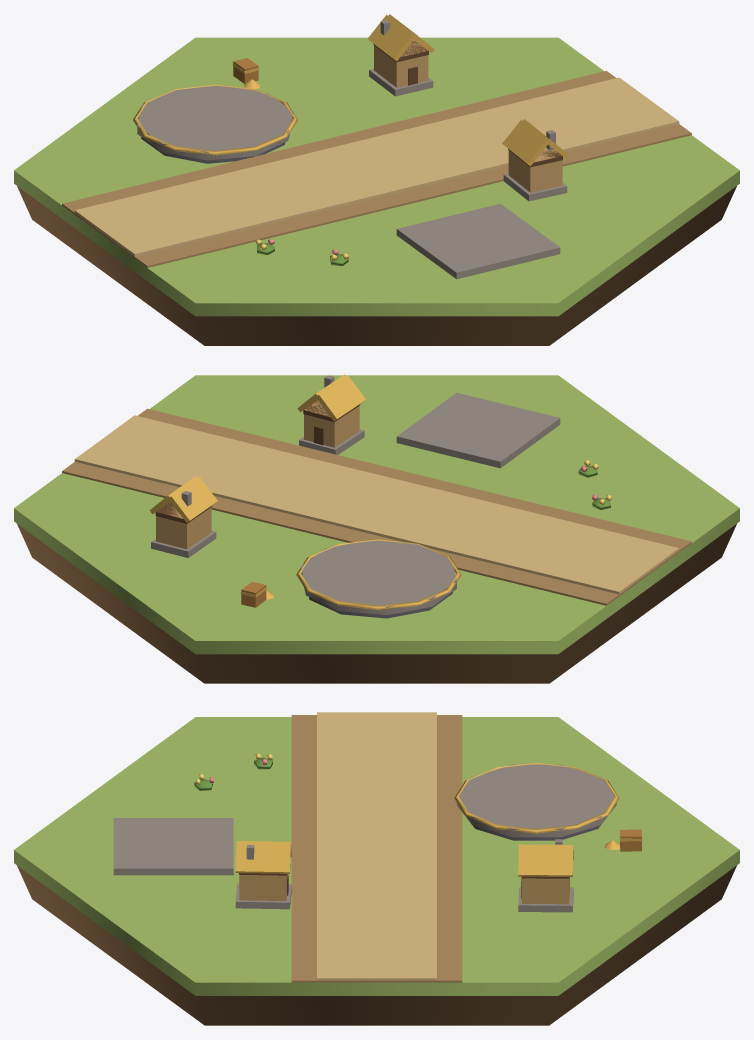
Rendered from tile_royalVillage.glb.
3 renders of one model, top to bottom at view 1: azimuth 30°, elevation 25°; view 2: azimuth 150°, elevation 25°; view 3: azimuth 270°, elevation 25°, orthographic.
Visible parts, largest first — view 1: ground, road, ground_soil, tower_slot_1_plate, building_pad, road_surface_hub, deco_cottage_gold_0_body, deco_cottage_gold_1_body, road_verge_hub, tower_slot_1_trim, deco_cottage_gold_0_roof_north, deco_cottage_gold_1_roof_south (+2 smaller); view 2: ground, road, ground_soil, tower_slot_1_plate, building_pad, road_surface_hub, deco_cottage_gold_1_body, deco_cottage_gold_0_body, road_verge_hub, tower_slot_1_trim, deco_cottage_gold_0_roof_north, deco_cottage_gold_1_roof_south (+3 smaller); view 3: ground, road, ground_soil, tower_slot_1_plate, building_pad, road_surface_hub, deco_cottage_gold_1_roof_north, deco_cottage_gold_0_roof_south, tower_slot_1_trim, deco_cottage_gold_1_body, deco_cottage_gold_0_body, road_verge_hub (+2 smaller).
Part boxes in pixels (left/top/right/bottom): ground: left=14, top=37, right=739, bottom=316; road: left=62, top=71, right=691, bottom=267; ground_soil: left=17, top=186, right=736, bottom=345; tower_slot_1_plate: left=137, top=85, right=293, bottom=160; building_pad: left=396, top=203, right=560, bottom=279; road_surface_hub: left=317, top=143, right=436, bottom=190; deco_cottage_gold_0_body: left=508, top=147, right=562, bottom=192; deco_cottage_gold_1_body: left=374, top=40, right=428, bottom=87; road_verge_hub: left=300, top=132, right=458, bottom=203; tower_slot_1_trim: left=133, top=84, right=297, bottom=155; deco_cottage_gold_0_roof_north: left=502, top=119, right=549, bottom=166; deco_cottage_gold_1_roof_south: left=367, top=15, right=415, bottom=61; ground: left=14, top=375, right=739, bottom=654; road: left=62, top=408, right=691, bottom=605; ground_soil: left=17, top=524, right=736, bottom=683; tower_slot_1_plate: left=300, top=540, right=456, bottom=615; building_pad: left=396, top=392, right=560, bottom=468; road_surface_hub: left=318, top=479, right=436, bottom=528; deco_cottage_gold_1_body: left=156, top=502, right=211, bottom=549; deco_cottage_gold_0_body: left=304, top=400, right=359, bottom=447; road_verge_hub: left=295, top=470, right=454, bottom=541; tower_slot_1_trim: left=296, top=539, right=461, bottom=609; deco_cottage_gold_0_roof_north: left=316, top=375, right=365, bottom=421; deco_cottage_gold_1_roof_south: left=168, top=476, right=217, bottom=522; ground: left=14, top=717, right=739, bottom=995; road: left=291, top=712, right=462, bottom=982; ground_soil: left=17, top=865, right=736, bottom=1025; tower_slot_1_plate: left=457, top=764, right=616, bottom=837; building_pad: left=113, top=818, right=233, bottom=875; road_surface_hub: left=317, top=820, right=436, bottom=870; deco_cottage_gold_1_roof_north: left=518, top=846, right=573, bottom=876; deco_cottage_gold_0_roof_south: left=235, top=842, right=290, bottom=873; tower_slot_1_trim: left=454, top=762, right=619, bottom=833; deco_cottage_gold_1_body: left=522, top=877, right=569, bottom=904; deco_cottage_gold_0_body: left=239, top=874, right=287, bottom=900; road_verge_hub: left=292, top=827, right=461, bottom=847.
Size of the model in its own units: 1.73 by 0.325 by 2.
